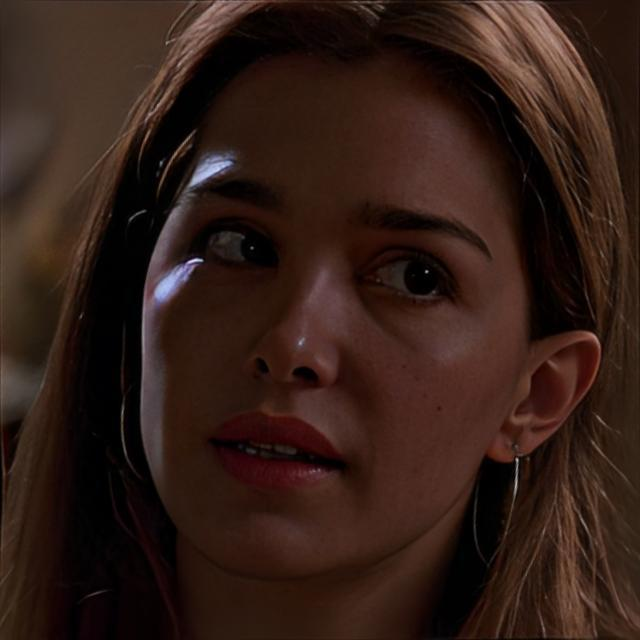fear: (135, 32, 538, 580)
